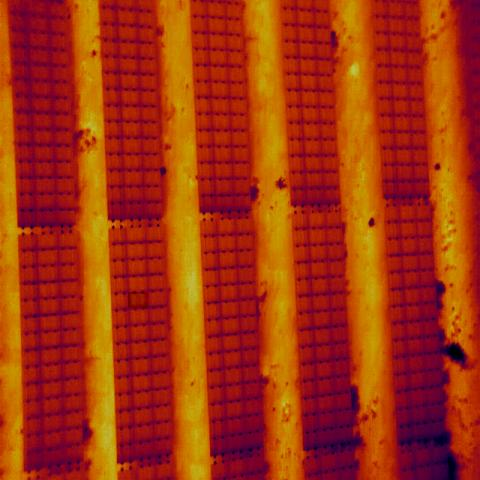fault: (128, 292, 148, 308)
